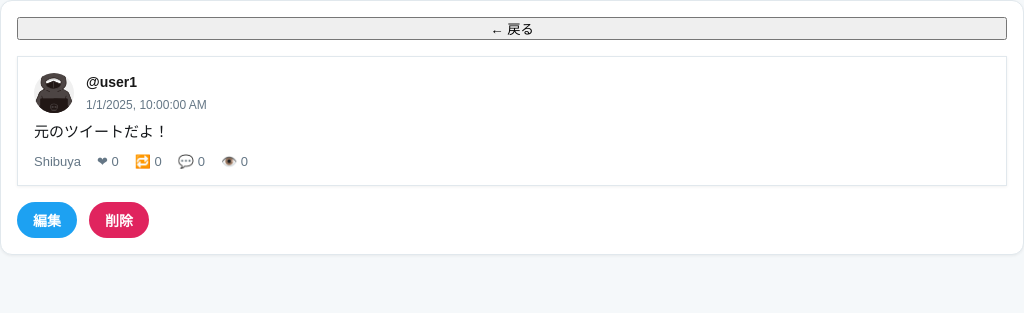
TweetDetail 編集テスト › キャンセルボタンで編集モードが解除される
Click the button "編集". click: (47, 220)
box: [17,202,77,238]
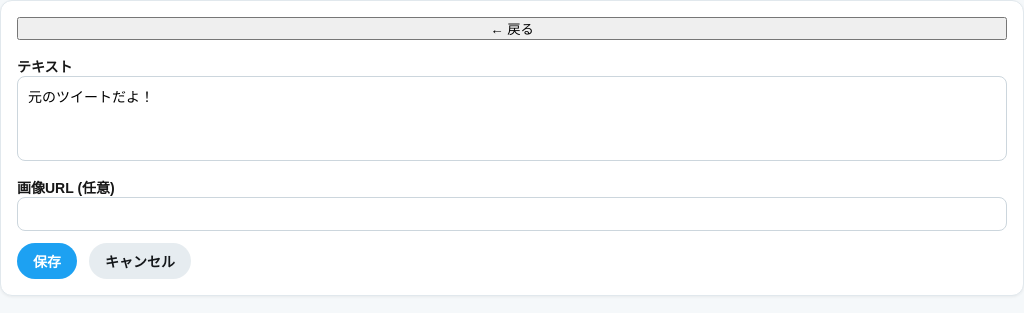
Click the button "キャンセル". click: (140, 261)
box: [89,243,191,279]
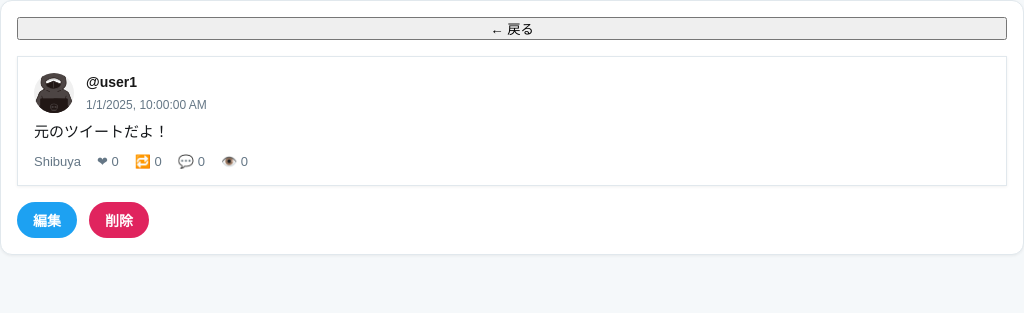
Check: the button "編集" is shown, box [17,202,77,238]
Check: the button "削除" is shown, box [89,202,149,238]
